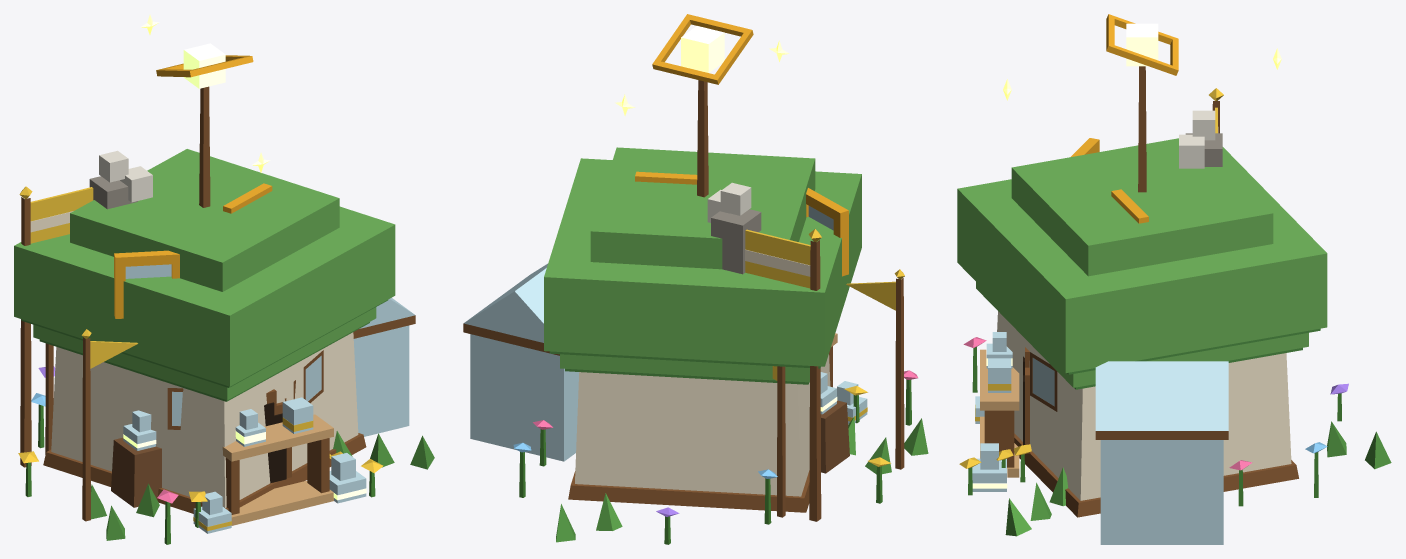
File: pollen-lab-blocky.glb
3 views of the same model, side by side, from view 1: azimuth 30°, elevation 25°; view 2: azimuth 150°, elevation 25°; view 3: azimuth 270°, elevation 25° (orthographic). The views are drawn at different scales.
Parts seen in each view (by area): view 1: lv3, lv2, lv1; view 2: lv3, lv2, lv1; view 3: lv3, lv2, lv1.
Boxes of the visible parts, x1=… form: lv3: x1=14, y1=14, x2=434, y2=544; lv2: x1=31, y1=166, x2=394, y2=527; lv1: x1=111, y1=410, x2=352, y2=517; lv3: x1=463, y1=14, x2=928, y2=544; lv2: x1=533, y1=171, x2=891, y2=530; lv1: x1=820, y1=372, x2=855, y2=473; lv3: x1=957, y1=14, x2=1391, y2=544; lv2: x1=976, y1=134, x2=1346, y2=520; lv1: x1=1014, y1=444, x2=1068, y2=506.
Bounding box in the file's own units: 1.8 × 1.91 × 1.76.
